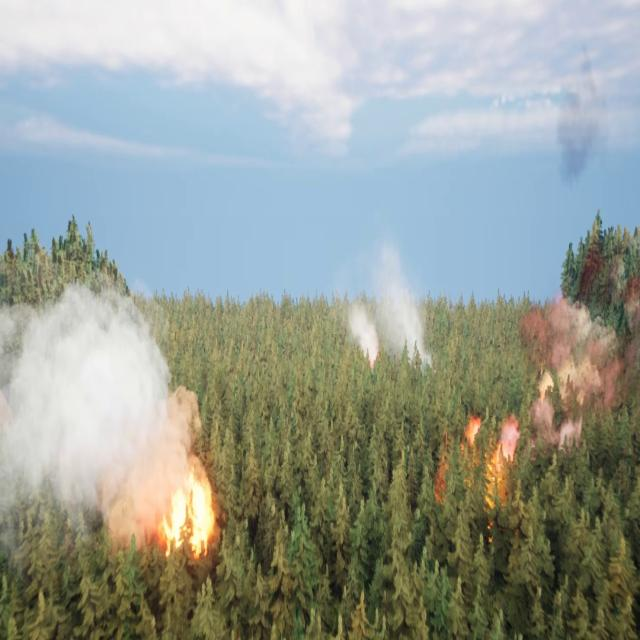fire: (438, 409, 512, 515), (160, 464, 220, 553)
smoke: (0, 284, 198, 548), (522, 297, 626, 476), (344, 250, 432, 370), (553, 62, 602, 194)
